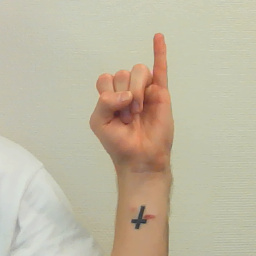I: (89, 31, 179, 164)
